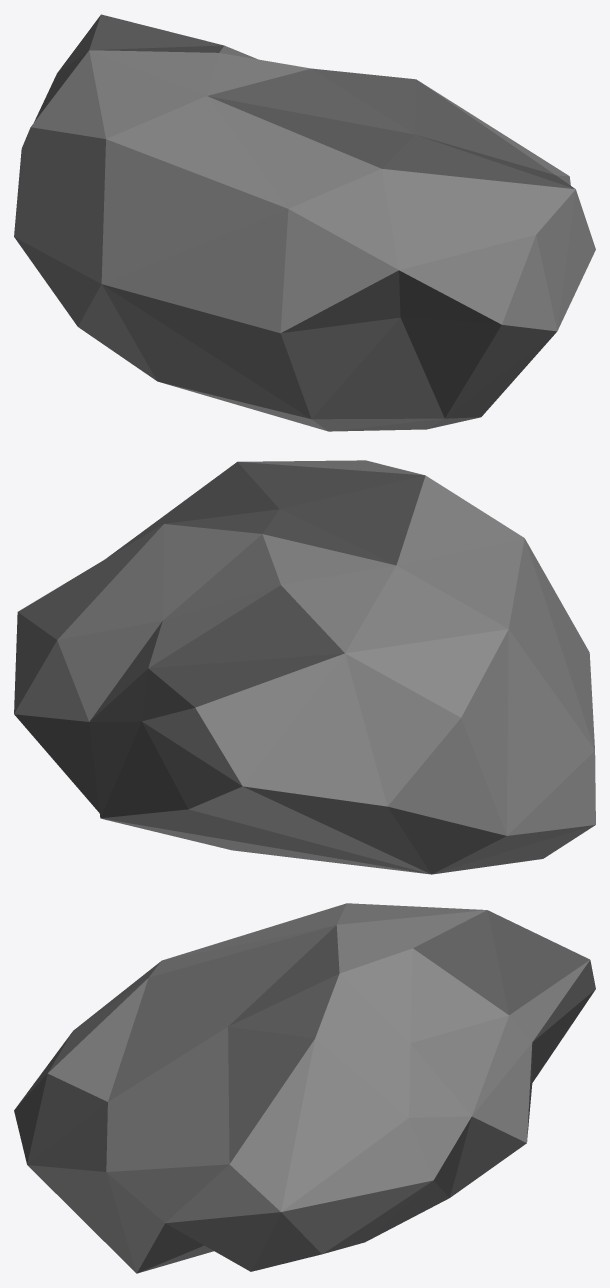
The model's file is Rock3.glb.
3 views of the same model, one above another, from view 1: azimuth 30°, elevation 25°; view 2: azimuth 150°, elevation 25°; view 3: azimuth 270°, elevation 25° (orthographic). The views are drawn at different scales.
Parts seen in each view (by area): view 1: Icosphere; view 2: Icosphere; view 3: Icosphere.
Boxes of the visible parts, x1,y1,x2,y2 form: Icosphere: (14, 14, 595, 431); Icosphere: (14, 460, 595, 874); Icosphere: (14, 903, 595, 1273).
Size of the model in its own units: 8.54 by 4.89 by 9.49.
1 material, 1 textured.
